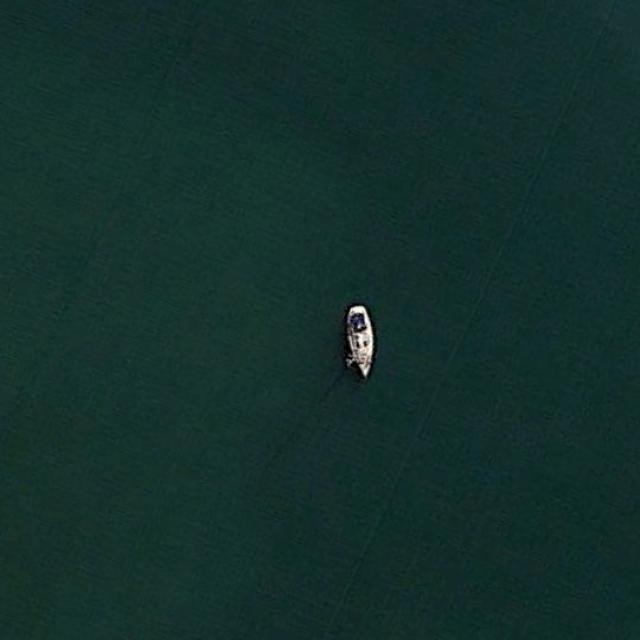ship: (342, 304, 374, 378)
